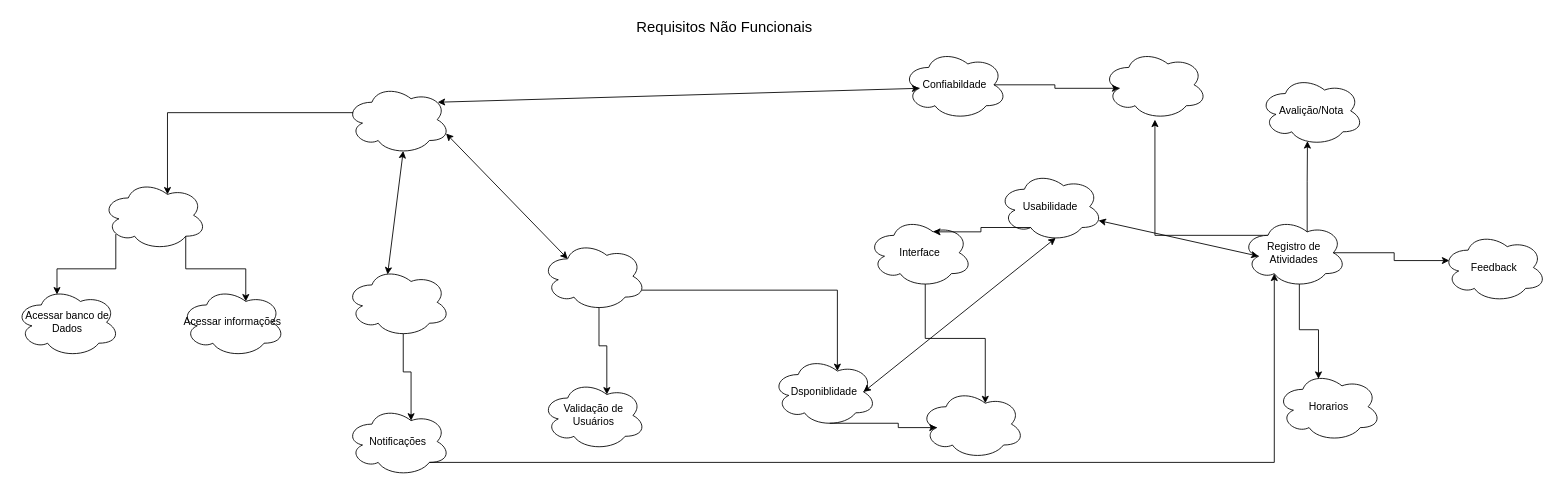
This 1562x492 diagram has some shape labels left out. The centre of each missing label's shape, as x and y in pixels:
Acesso via Web: the point at 971,423
Atualizações de informações: the point at 397,302
Backup: the point at 1154,84
Desempenho: the point at 397,119
Segurança: the point at 593,276
Tempo de Consulta: the point at 154,215
